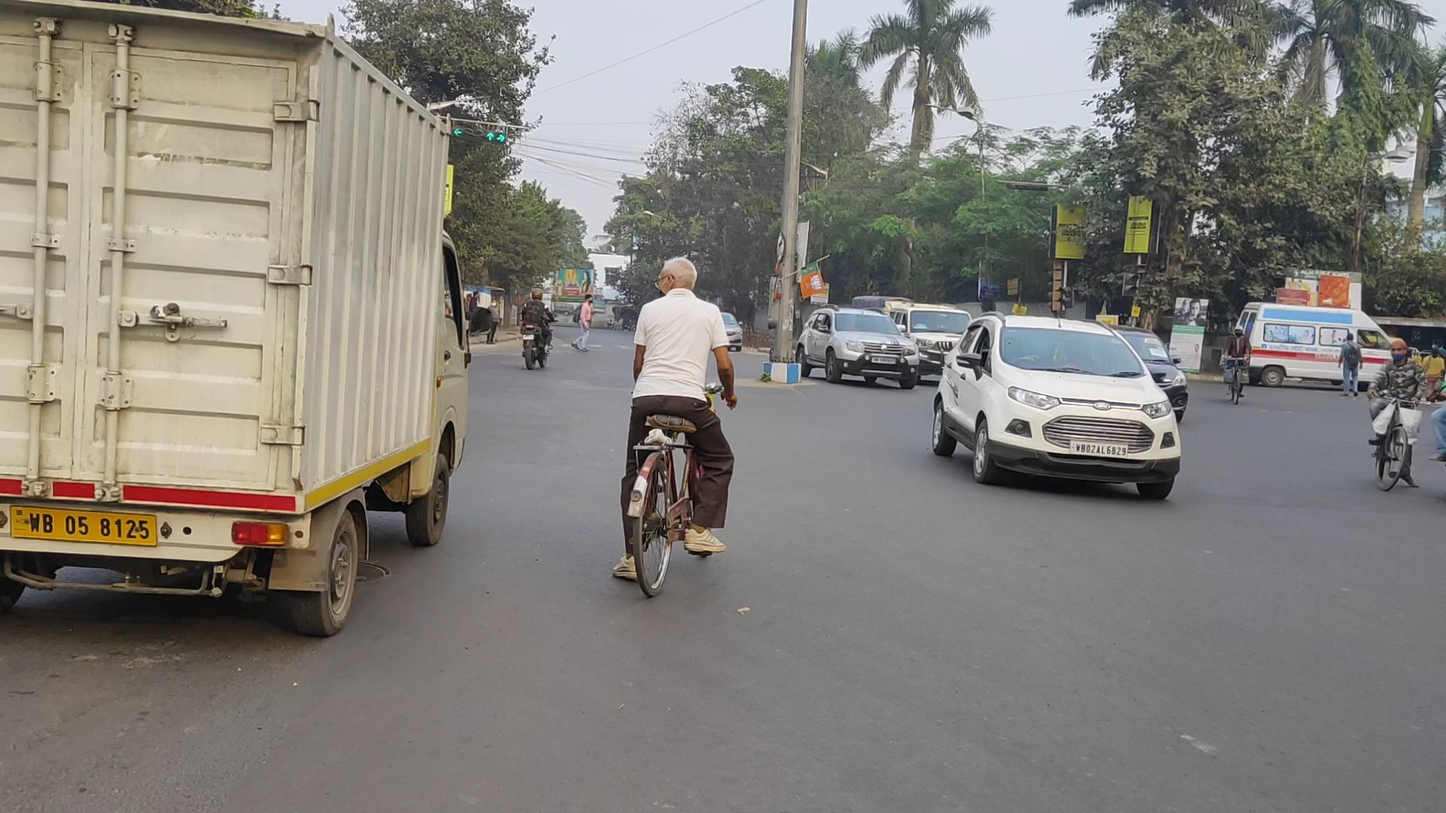bike: (612, 257, 740, 598), (1367, 340, 1426, 491), (519, 288, 558, 369), (1223, 324, 1253, 404)
car: (932, 311, 1182, 500), (795, 304, 919, 391), (1105, 321, 1189, 432), (889, 304, 980, 385)
van: (1, 1, 471, 639), (1232, 301, 1411, 394)
